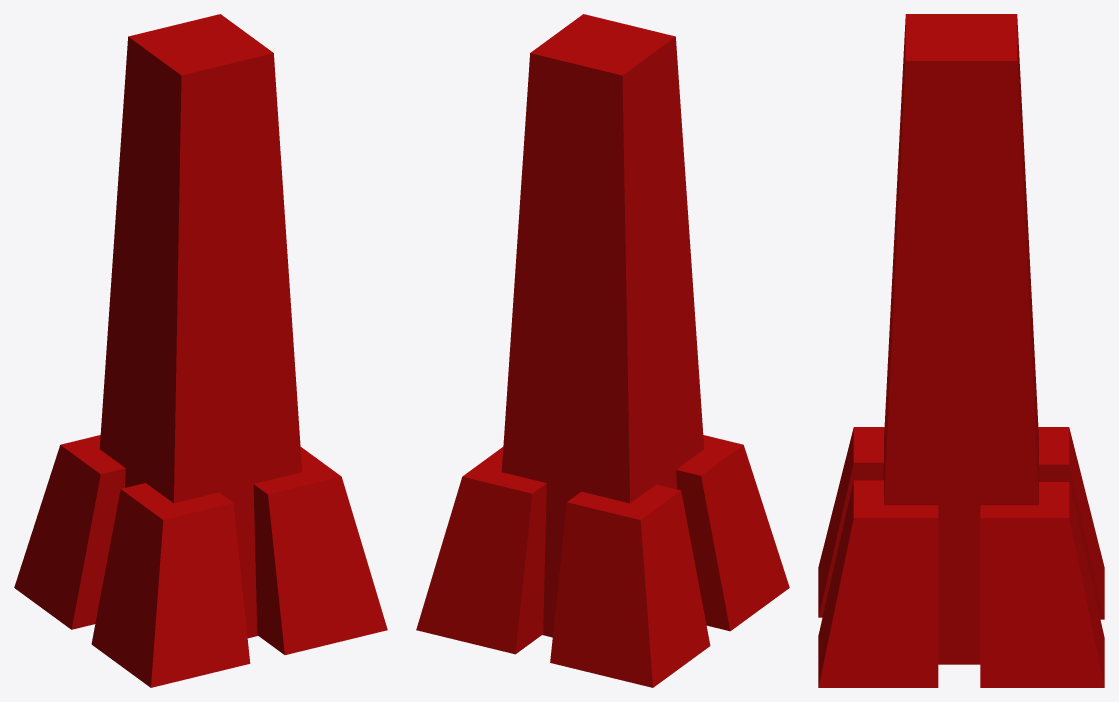
File: SM_Env_Monolith_01_Collision.gltf
3 renders of one model, left to right at view 1: azimuth 30°, elevation 25°; view 2: azimuth 150°, elevation 25°; view 3: azimuth 270°, elevation 25°, orthographic. The views are drawn at different scales.
Visible parts, largest first — view 1: SM_Env_Monolith_01_Collision; view 2: SM_Env_Monolith_01_Collision; view 3: SM_Env_Monolith_01_Collision.
Part boxes in pixels (x1,y1,x2,y2): SM_Env_Monolith_01_Collision: (14,14,387,687); SM_Env_Monolith_01_Collision: (416,14,789,687); SM_Env_Monolith_01_Collision: (818,14,1104,687).
Size of the model in its own units: 3.64 by 8.31 by 3.64.
